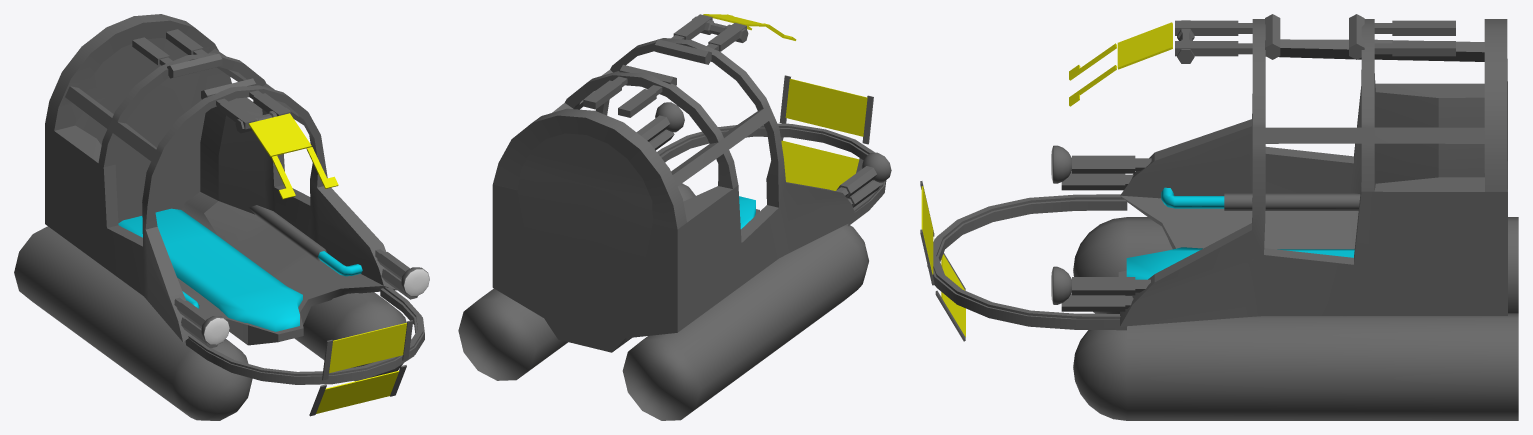
The model's file is SubBoat.fbx.
The picture shows the model from 3 angles, left to right: view 1: azimuth 30°, elevation 25°; view 2: azimuth 150°, elevation 25°; view 3: azimuth 270°, elevation 25°; orthographic projection. The views are drawn at different scales.
Parts seen in each view (by area): view 1: SubBoat; view 2: SubBoat; view 3: SubBoat.
Boxes of the visible parts, left/top/right/bottom form: SubBoat: left=14, top=14, right=429, bottom=420; SubBoat: left=458, top=14, right=891, bottom=420; SubBoat: left=920, top=14, right=1518, bottom=420.
Bounding box in the file's own units: 5.69 × 6.32 × 10.13.
